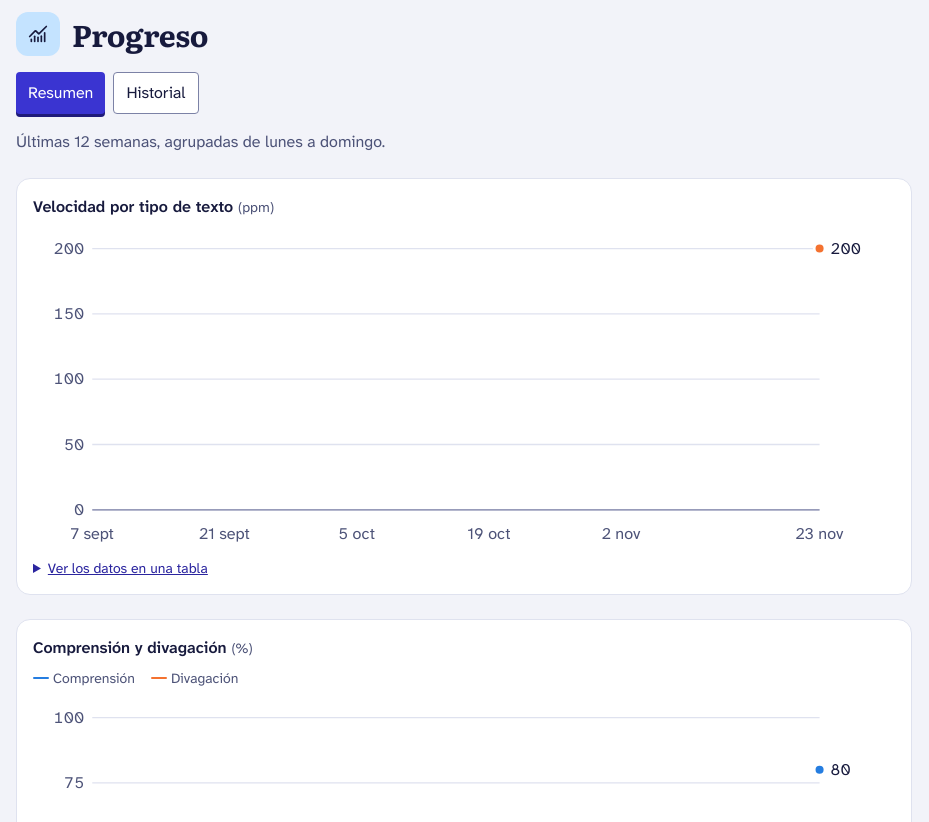
Test case: ProgressPage › con datos muestra las gráficas, la retención y permite ver el historial
The width and height of the screenshot is (929, 822).
Expected: the element "Velocidad por tipo de texto" is shown, top-left (16, 178), bottom-right (912, 595)
Click the tab "Historial" at (156, 93), box top-left (113, 72), bottom-right (198, 114)
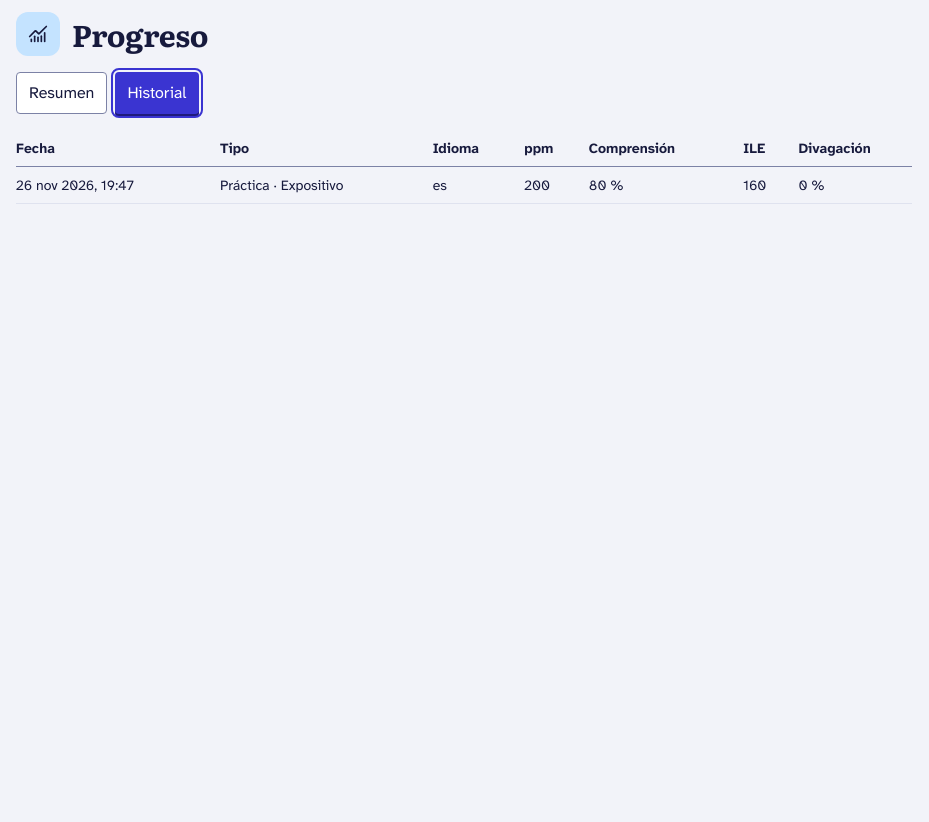
Expected: the text "200" is shown, top-left (524, 166), bottom-right (589, 204)
Result: the number of panels is 1 at top-left (16, 130), bottom-right (912, 204)
